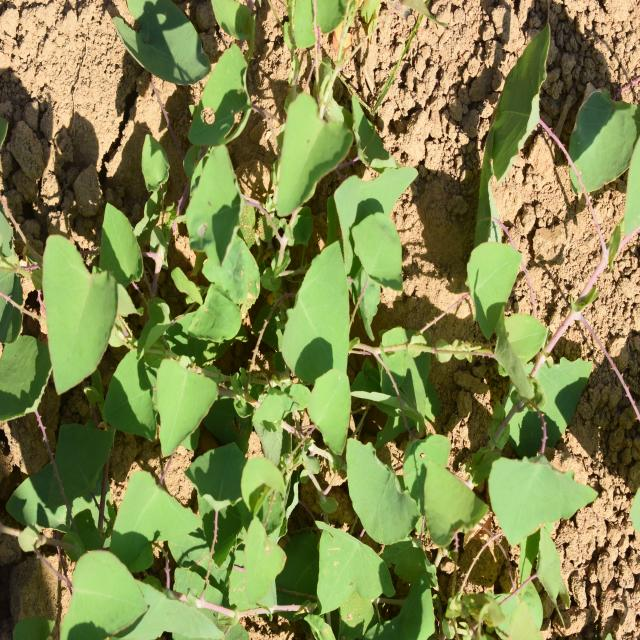Asiatic_Smartweed: (278, 213, 557, 453), (316, 429, 571, 633), (61, 452, 302, 634), (50, 202, 228, 446), (167, 45, 400, 220)
